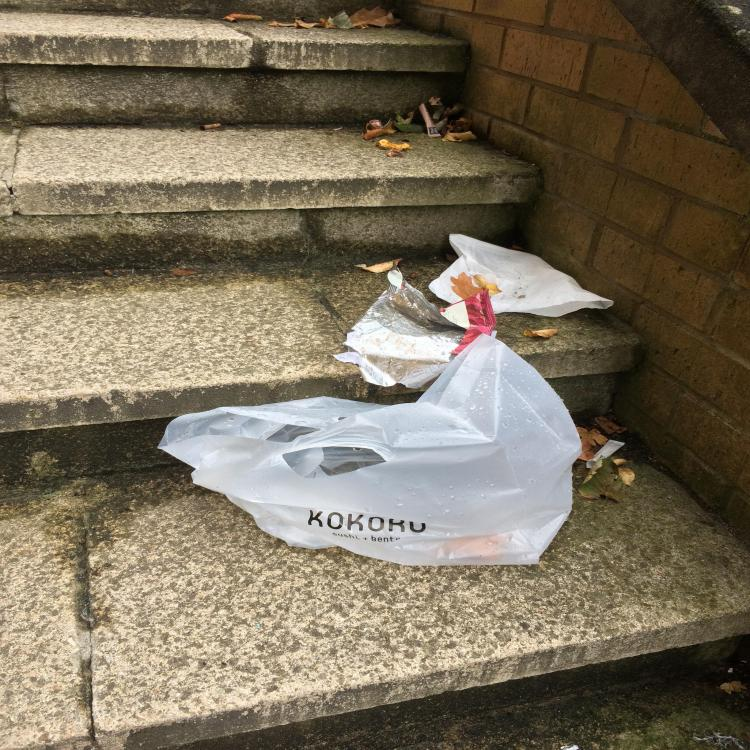Other plastic: (333, 260, 497, 388)
Plastic film: (586, 440, 625, 468)
Single-use carrier bag: (157, 333, 583, 565)
